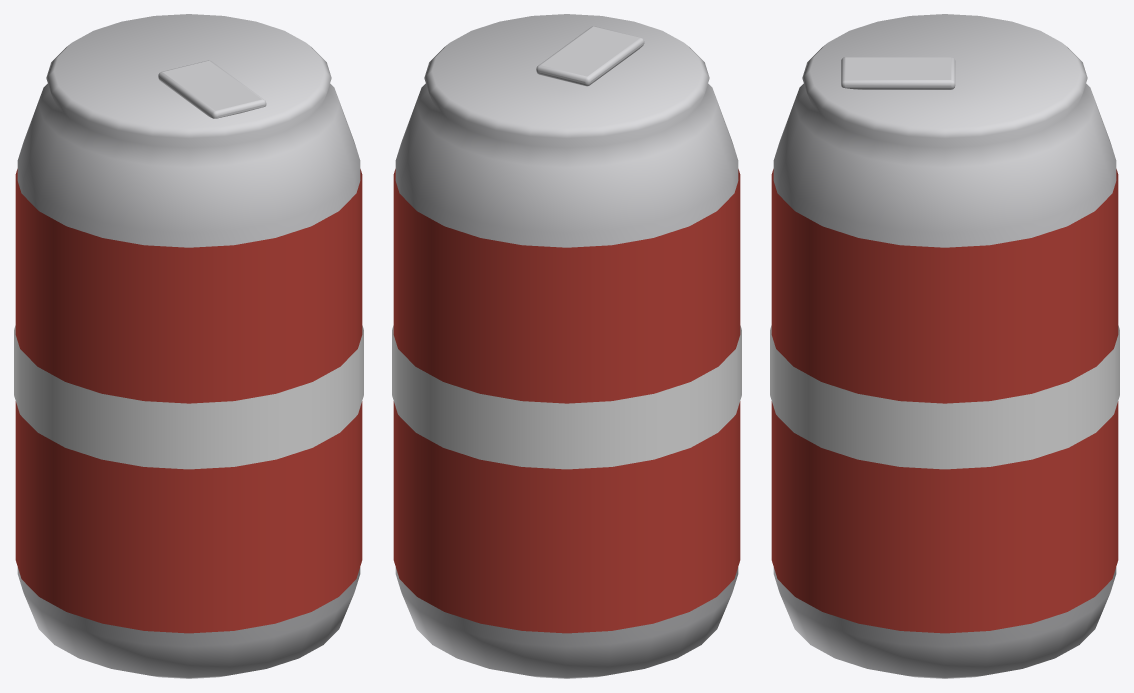
The model's file is item_can_red.fbx.
The picture shows the model from 3 angles, left to right: view 1: azimuth 30°, elevation 25°; view 2: azimuth 150°, elevation 25°; view 3: azimuth 270°, elevation 25°; orthographic projection.
Parts seen in each view (by area): view 1: item_can_red; view 2: item_can_red; view 3: item_can_red.
Part boxes in pixels (x1,y1,x2,y2): item_can_red: (14, 14, 363, 678); item_can_red: (392, 14, 741, 678); item_can_red: (770, 14, 1119, 678).
Bounding box in the file's own units: 0.0674 × 0.1195 × 0.0674.
